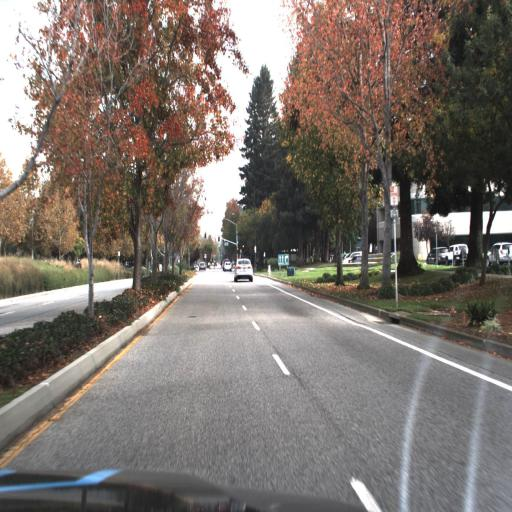car: (484, 241, 512, 270), (417, 239, 446, 266), (232, 256, 255, 283), (427, 244, 449, 267), (449, 242, 469, 261), (450, 242, 468, 263)
